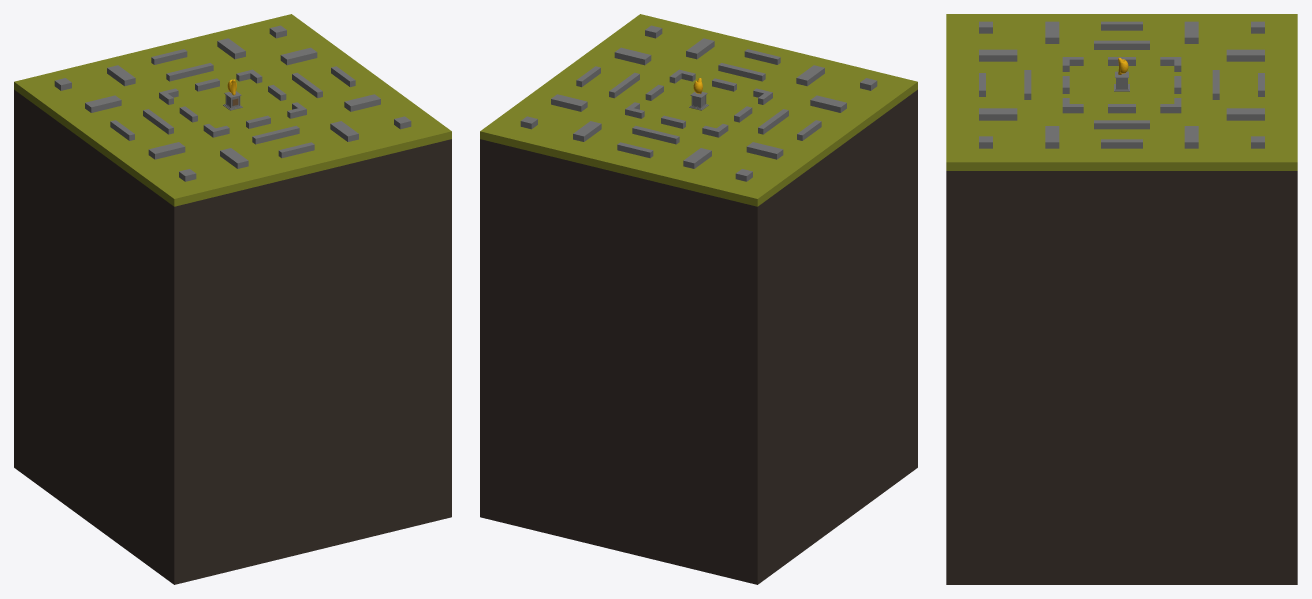
Rendered from map.fbx.
The picture shows the model from 3 angles, left to right: view 1: azimuth 30°, elevation 25°; view 2: azimuth 150°, elevation 25°; view 3: azimuth 270°, elevation 25°; orthographic projection. The views are drawn at different scales.
Parts seen in each view (by area): view 1: Ground, Cube.005, Cube.004, Cube.001, Cube.008, Cube.006, Cube.007, Cube.010; view 2: Ground, Cube.005, Cube.004, Cube.001, Cube.008, Cube.006, Cube.007, Cube.010; view 3: Ground, Cube.004, Cube.005, Cube.010, Cube.001, Cube.009, Cube.006, Cube.008, Cube.003.
Part boxes in pixels (box(x1,y1,x2,y2)): Ground: box(14, 14, 451, 584); Cube.005: box(85, 47, 380, 159); Cube.004: box(107, 38, 358, 168); Cube.001: box(159, 69, 306, 137); Cube.008: box(166, 63, 299, 144); Cube.006: box(54, 25, 411, 181); Cube.007: box(151, 49, 314, 158); Cube.010: box(143, 72, 322, 134); Ground: box(480, 14, 917, 584); Cube.005: box(551, 47, 846, 159); Cube.004: box(573, 38, 824, 168); Cube.001: box(625, 69, 772, 137); Cube.008: box(632, 63, 765, 144); Cube.006: box(520, 25, 877, 181); Cube.007: box(617, 49, 780, 158); Cube.010: box(609, 72, 788, 134); Ground: box(946, 14, 1297, 584); Cube.004: box(979, 49, 1264, 120); Cube.005: box(1045, 21, 1198, 148); Cube.010: box(1094, 40, 1149, 129); Cube.001: box(1062, 57, 1181, 113); Cube.009: box(1101, 21, 1142, 148); Cube.006: box(979, 21, 1264, 148); Cube.008: box(1024, 70, 1219, 99); Cube.003: box(1108, 57, 1135, 113).
Size of the model in its own units: 10067 by 14334 by 10067.
